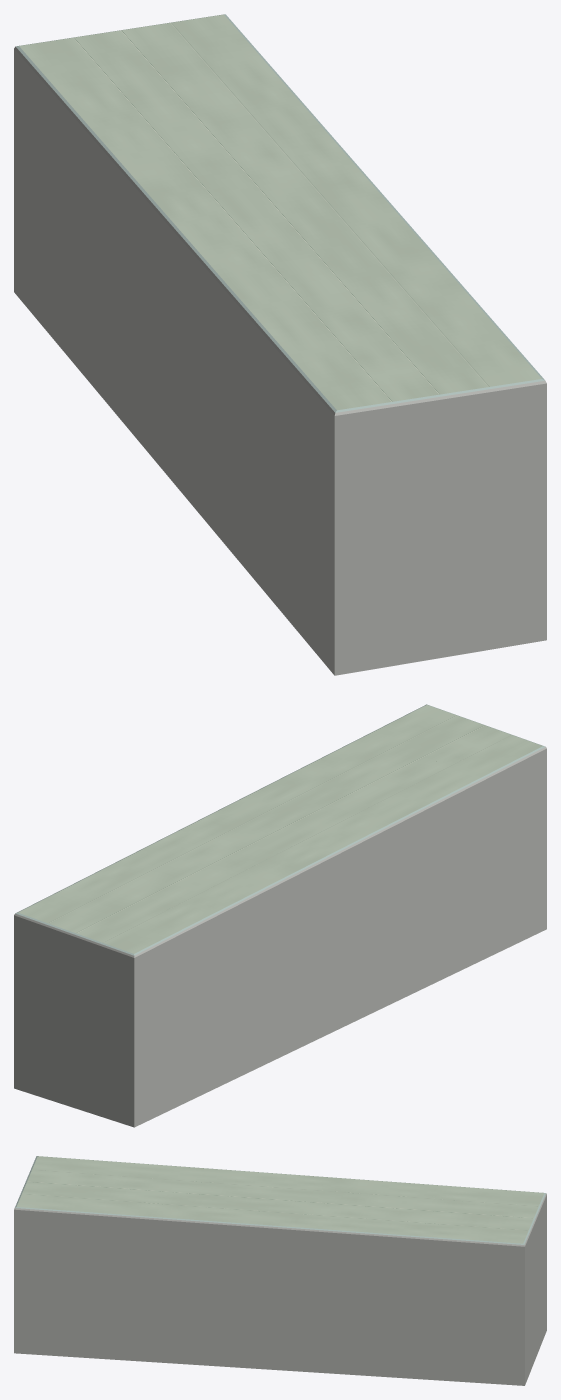
Rendered from fragments.glb.
3 views of the same model, one above another, from view 1: azimuth 30°, elevation 25°; view 2: azimuth 150°, elevation 25°; view 3: azimuth 270°, elevation 25° (orthographic). The views are drawn at different scales.
Parts seen in each view (by area): view 1: SM_tennis_Fragment_040, SM_tennis_Fragment_000, SM_tennis_Fragment_006, SM_tennis_Fragment_022, SM_tennis_Fragment_026, SM_tennis_Fragment_021, SM_tennis_Fragment_043, SM_tennis_Fragment_033, SM_tennis_Fragment_039, SM_tennis_Fragment_036, SM_tennis_Fragment_058, SM_tennis_Fragment_015 (+26 smaller); view 2: SM_tennis_Fragment_018, SM_tennis_Fragment_033, SM_tennis_Fragment_026, SM_tennis_Fragment_036, SM_tennis_Fragment_043, SM_tennis_Fragment_058, SM_tennis_Fragment_037, SM_tennis_Fragment_045, SM_tennis_Fragment_034, SM_tennis_Fragment_060, SM_tennis_Fragment_015, SM_tennis_Fragment_021 (+26 smaller); view 3: SM_tennis_Fragment_023, SM_tennis_Fragment_010, SM_tennis_Fragment_032, SM_tennis_Fragment_014, SM_tennis_Fragment_039, SM_tennis_Fragment_050, SM_tennis_Fragment_002, SM_tennis_Fragment_009, SM_tennis_Fragment_022, SM_tennis_Fragment_025, SM_tennis_Fragment_024, SM_tennis_Fragment_038 (+28 smaller).
Part boxes in pixels (left/top/right/bottom): SM_tennis_Fragment_040: left=302, top=405, right=425, bottom=580; SM_tennis_Fragment_000: left=322, top=343, right=487, bottom=464; SM_tennis_Fragment_006: left=337, top=557, right=546, bottom=675; SM_tennis_Fragment_022: left=457, top=442, right=546, bottom=624; SM_tennis_Fragment_026: left=229, top=278, right=368, bottom=414; SM_tennis_Fragment_021: left=286, top=493, right=407, bottom=675; SM_tennis_Fragment_043: left=175, top=228, right=290, bottom=350; SM_tennis_Fragment_033: left=266, top=336, right=363, bottom=494; SM_tennis_Fragment_039: left=434, top=324, right=546, bottom=457; SM_tennis_Fragment_036: left=40, top=87, right=141, bottom=229; SM_tennis_Fragment_058: left=91, top=129, right=194, bottom=269; SM_tennis_Fragment_015: left=141, top=181, right=274, bottom=305; SM_tennis_Fragment_018: left=70, top=1015, right=168, bottom=1127; SM_tennis_Fragment_033: left=434, top=754, right=532, bottom=857; SM_tennis_Fragment_026: left=351, top=767, right=460, bottom=870; SM_tennis_Fragment_036: left=163, top=902, right=243, bottom=1001; SM_tennis_Fragment_043: left=308, top=803, right=417, bottom=882; SM_tennis_Fragment_058: left=222, top=863, right=303, bottom=955; SM_tennis_Fragment_037: left=308, top=874, right=387, bottom=967; SM_tennis_Fragment_045: left=27, top=937, right=112, bottom=1047; SM_tennis_Fragment_034: left=370, top=856, right=435, bottom=970; SM_tennis_Fragment_060: left=98, top=941, right=166, bottom=1027; SM_tennis_Fragment_015: left=261, top=827, right=346, bottom=940; SM_tennis_Fragment_021: left=484, top=849, right=546, bottom=944; SM_tennis_Fragment_023: left=123, top=1195, right=217, bottom=1270; SM_tennis_Fragment_010: left=397, top=1251, right=485, bottom=1341; SM_tennis_Fragment_032: left=215, top=1193, right=304, bottom=1280; SM_tennis_Fragment_014: left=461, top=1223, right=533, bottom=1312; SM_tennis_Fragment_039: left=14, top=1193, right=96, bottom=1266; SM_tennis_Fragment_050: left=196, top=1265, right=273, bottom=1347; SM_tennis_Fragment_002: left=255, top=1241, right=343, bottom=1317; SM_tennis_Fragment_009: left=63, top=1226, right=150, bottom=1302; SM_tennis_Fragment_022: left=14, top=1243, right=68, bottom=1349; SM_tennis_Fragment_025: left=131, top=1269, right=208, bottom=1346; SM_tennis_Fragment_024: left=259, top=1308, right=336, bottom=1373; SM_tennis_Fragment_038: left=359, top=1217, right=434, bottom=1277.
Bounding box in the file's own units: 0.8761 × 0.671 × 2.2.
Materials: 4 (1 with a texture image).
